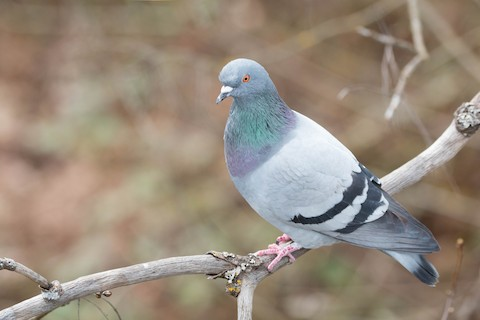pigeon: (211, 52, 445, 290)
